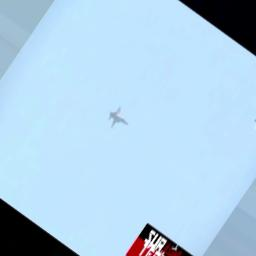Airplane: (108, 107, 131, 128)
